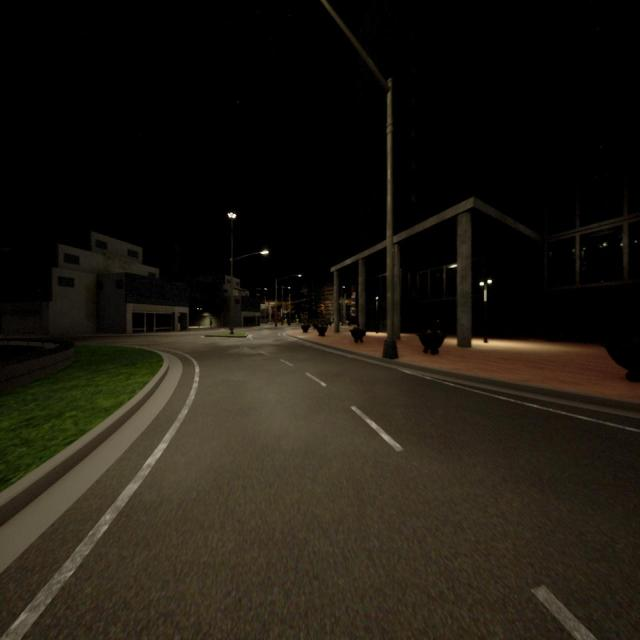Pedestrian: (210, 317, 212, 328)
